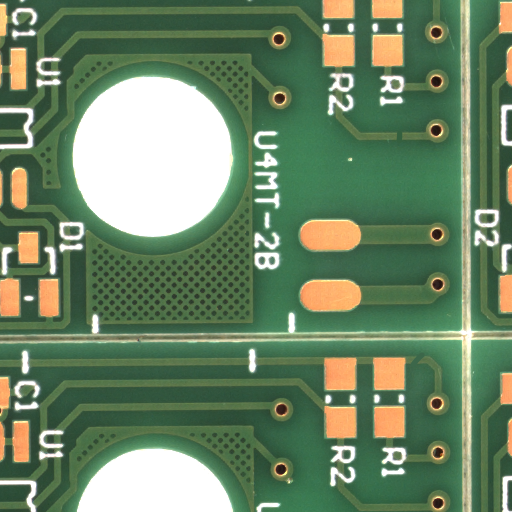Open_circuit: (417, 359, 432, 372), (399, 136, 406, 147)
